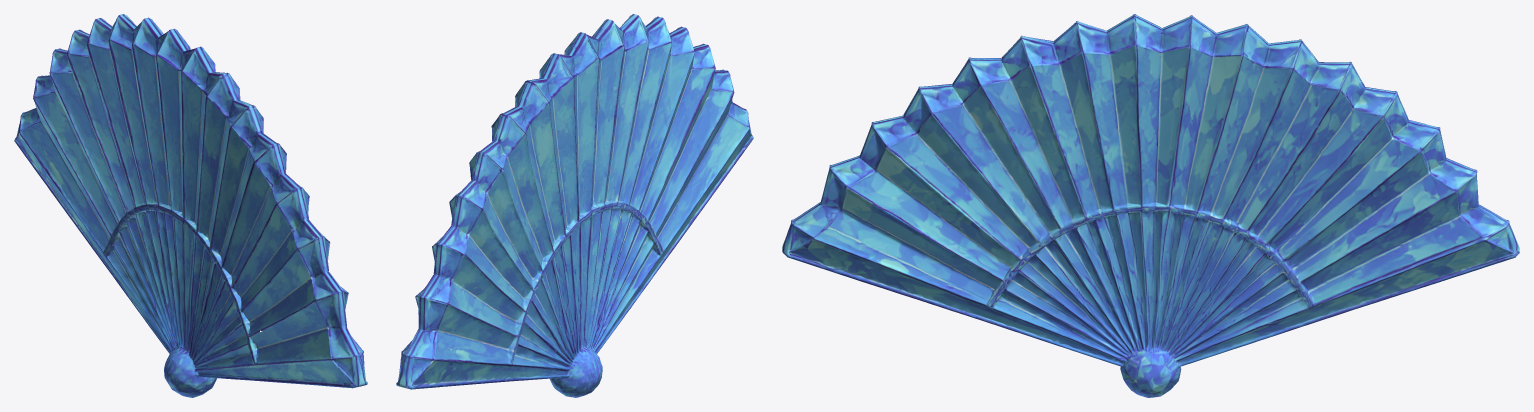
Rendered from fan.glb.
The picture shows the model from 3 angles, left to right: view 1: azimuth 30°, elevation 25°; view 2: azimuth 150°, elevation 25°; view 3: azimuth 270°, elevation 25°; orthographic projection. The views are drawn at different scales.
Parts seen in each view (by area): view 1: tripo_node_870a955d-a4f9-4cad-9b87-d9ed135f1be2; view 2: tripo_node_870a955d-a4f9-4cad-9b87-d9ed135f1be2; view 3: tripo_node_870a955d-a4f9-4cad-9b87-d9ed135f1be2.
Boxes of the visible parts, box(x1,y1,x2,y2) form: tripo_node_870a955d-a4f9-4cad-9b87-d9ed135f1be2: box(14, 14, 367, 397); tripo_node_870a955d-a4f9-4cad-9b87-d9ed135f1be2: box(396, 14, 753, 397); tripo_node_870a955d-a4f9-4cad-9b87-d9ed135f1be2: box(782, 14, 1519, 397).
Size of the model in its own units: 0.0782 by 0.5572 by 0.9793.
Materials: 1 (1 with a texture image).
